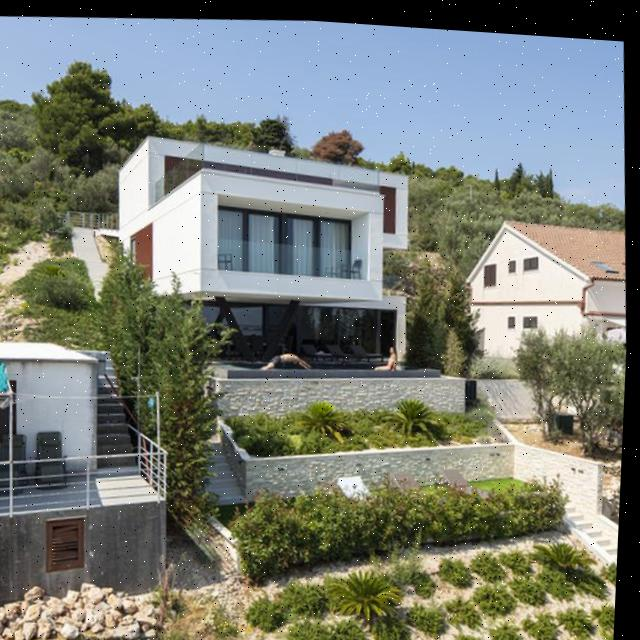building: (102, 117, 423, 392), (0, 332, 183, 612), (457, 210, 632, 363)
